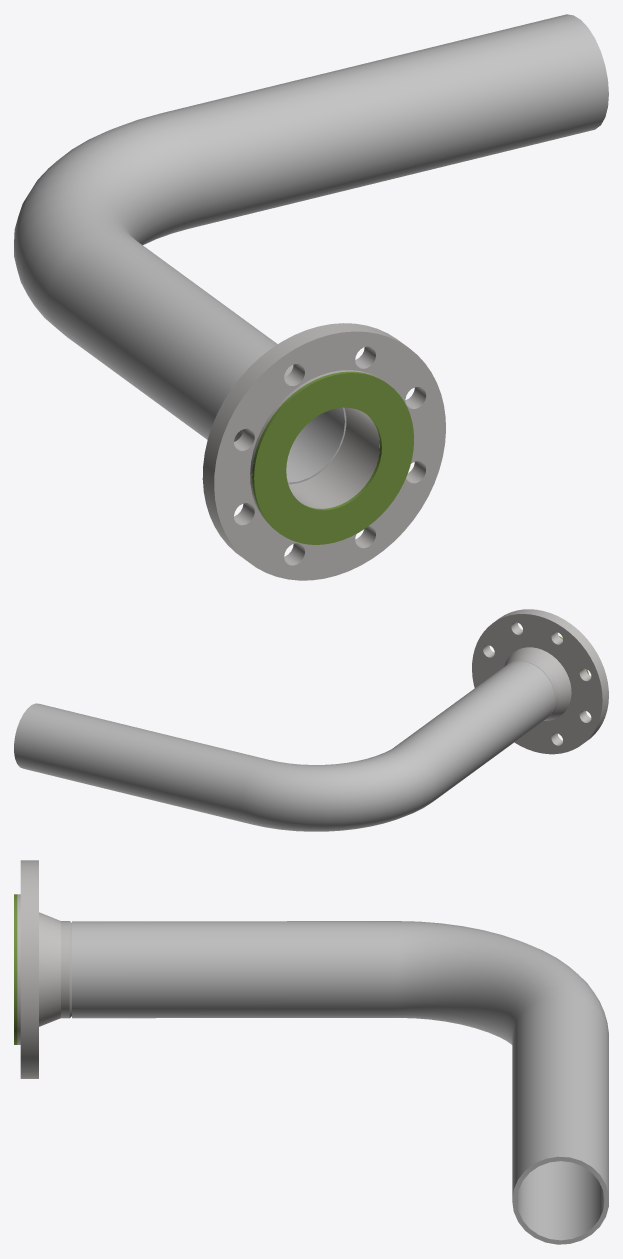
The model's file is Rohr 90 Grad mit Flansch DN80 (einseitig).obj.
3 renders of one model, top to bottom at view 1: azimuth 30°, elevation 25°; view 2: azimuth 150°, elevation 25°; view 3: azimuth 270°, elevation 25°, orthographic. The views are drawn at different scales.
Parts seen in each view (by area): view 1: Volumenkörper1, Solid1, Volumenkörper1:1; view 2: Volumenkörper1, Solid1; view 3: Volumenkörper1, Solid1, Volumenkörper1:1.
Boxes of the visible parts, <box> form: Volumenkörper1: <box>14,14,608,484</box>; Solid1: <box>202,323,445,580</box>; Volumenkörper1:1: <box>252,371,413,544</box>; Volumenkörper1: <box>14,661,554,831</box>; Solid1: <box>472,609,608,754</box>; Volumenkörper1: <box>72,921,608,1244</box>; Solid1: <box>17,860,71,1078</box>; Volumenkörper1:1: <box>14,894,17,1044</box>.
Size of the model in its own units: 600 by 200 by 544.
